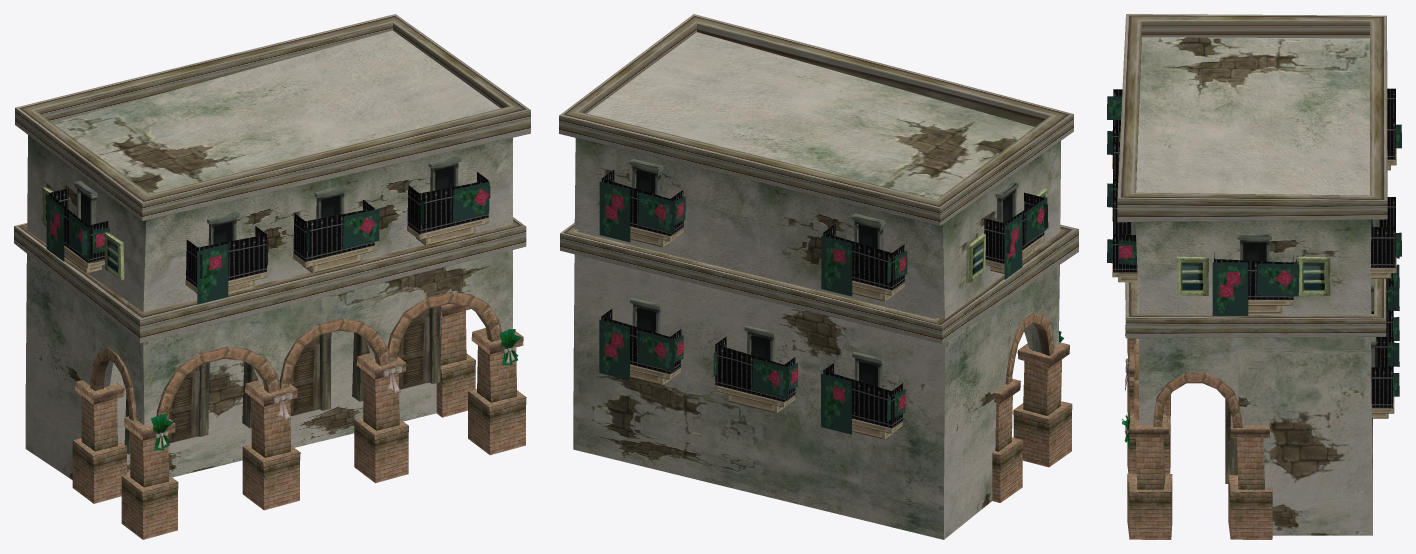
File: spanish_npc_house_j_exterior.fbx
3 views of the same model, side by side, from view 1: azimuth 30°, elevation 25°; view 2: azimuth 150°, elevation 25°; view 3: azimuth 270°, elevation 25° (orthographic).
Parts seen in each view (by area): view 1: polySurface499, trim_top, polySurface500, trim_mid, BrickColumnMoss28, BrickColumnMoss30, BrickColumnMoss29, BrickColumnMoss32, BrickColumnMoss27, BrickColumnMoss31, railing_front9, Arch12 (+17 smaller); view 2: polySurface499, trim_top, trim_mid, BrickColumnMoss27, BrickColumnMoss32, polySurface500, railing_front2, railing_front5, railing_front1, pPlane3.003, pPlane3.006, pPlane3.002 (+10 smaller); view 3: polySurface499, trim_top, trim_mid, polySurface500, BrickColumnMoss30, BrickColumnMoss31, pPlane3.001, Arch13, railing_front6, railing_front3, window59, window46 (+12 smaller).
Part boxes in pixels (bbox=[...]): polySurface499: bbox=[25, 30, 512, 479]; trim_top: bbox=[15, 14, 530, 220]; polySurface500: bbox=[93, 250, 512, 425]; trim_mid: bbox=[14, 217, 526, 343]; BrickColumnMoss28: bbox=[242, 380, 300, 510]; BrickColumnMoss30: bbox=[468, 328, 526, 455]; BrickColumnMoss29: bbox=[354, 353, 408, 483]; BrickColumnMoss32: bbox=[72, 380, 127, 503]; BrickColumnMoss27: bbox=[121, 416, 178, 539]; BrickColumnMoss31: bbox=[436, 304, 475, 417]; railing_front9: bbox=[293, 200, 374, 262]; Arch12: bbox=[156, 346, 280, 420]; polySurface499: bbox=[573, 32, 1060, 539]; trim_top: bbox=[559, 14, 1073, 225]; trim_mid: bbox=[560, 222, 1078, 343]; BrickColumnMoss27: bbox=[1013, 342, 1072, 467]; BrickColumnMoss32: bbox=[992, 378, 1023, 502]; polySurface500: bbox=[1008, 265, 1059, 358]; railing_front2: bbox=[715, 336, 795, 402]; railing_front5: bbox=[823, 224, 904, 290]; railing_front1: bbox=[823, 363, 903, 428]; pPlane3.003: bbox=[821, 235, 852, 296]; pPlane3.006: bbox=[821, 373, 851, 434]; pPlane3.002: bbox=[599, 181, 630, 242]; polySurface499: bbox=[1135, 37, 1372, 535]; trim_top: bbox=[1117, 14, 1387, 222]; trim_mid: bbox=[1125, 278, 1386, 338]; polySurface500: bbox=[1139, 337, 1238, 425]; BrickColumnMoss30: bbox=[1127, 413, 1172, 539]; BrickColumnMoss31: bbox=[1228, 414, 1272, 539]; pPlane3.001: bbox=[1212, 262, 1248, 315]; Arch13: bbox=[1153, 372, 1242, 427]; railing_front6: bbox=[1370, 197, 1395, 268]; railing_front3: bbox=[1371, 337, 1393, 408]; window59: bbox=[1298, 256, 1330, 295]; window46: bbox=[1177, 256, 1208, 295].
Size of the model in its own units: 5829 by 4526 by 3553.
Materials: 4 (4 with a texture image).
